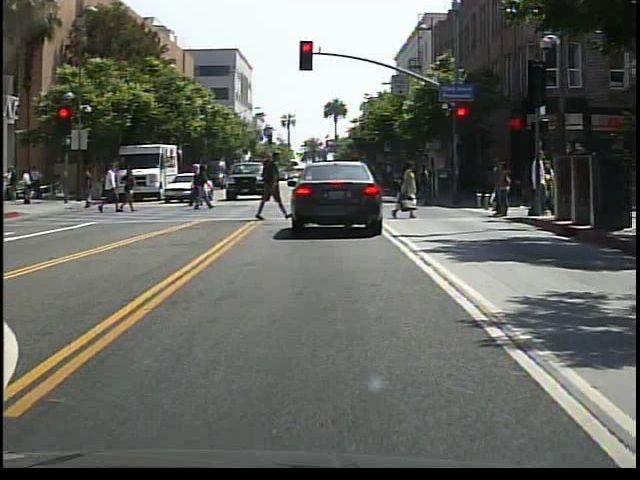person: (256, 148, 290, 224), (520, 149, 550, 223), (392, 160, 422, 222), (103, 163, 126, 218), (192, 165, 214, 214), (191, 164, 209, 210), (123, 168, 138, 213), (85, 164, 98, 212)
